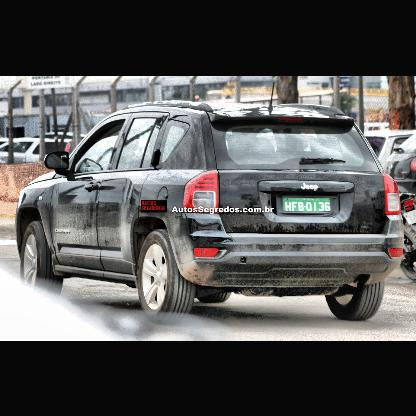Jeep Compass SUV 2012: (18, 106, 402, 321)
